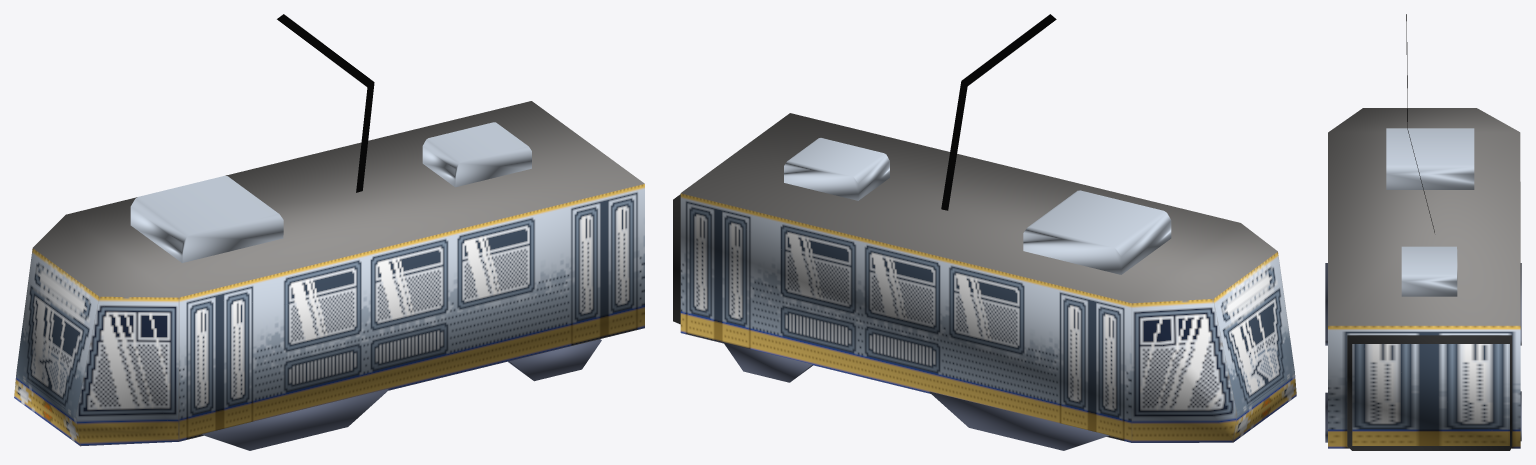
The model's file is Tren part new.fbx.
3 renders of one model, left to right at view 1: azimuth 30°, elevation 25°; view 2: azimuth 150°, elevation 25°; view 3: azimuth 270°, elevation 25°, orthographic. The views are drawn at different scales.
Visible parts, largest first — view 1: Antenna.002; view 2: Antenna.002; view 3: Antenna.002.
Boxes of the visible parts, x1,y1,x2,y2 form: Antenna.002: [14, 14, 644, 450]; Antenna.002: [673, 14, 1296, 450]; Antenna.002: [1325, 14, 1521, 450].
Bounding box in the file's own units: 1459 × 953 × 522.
5 materials, 1 textured.
